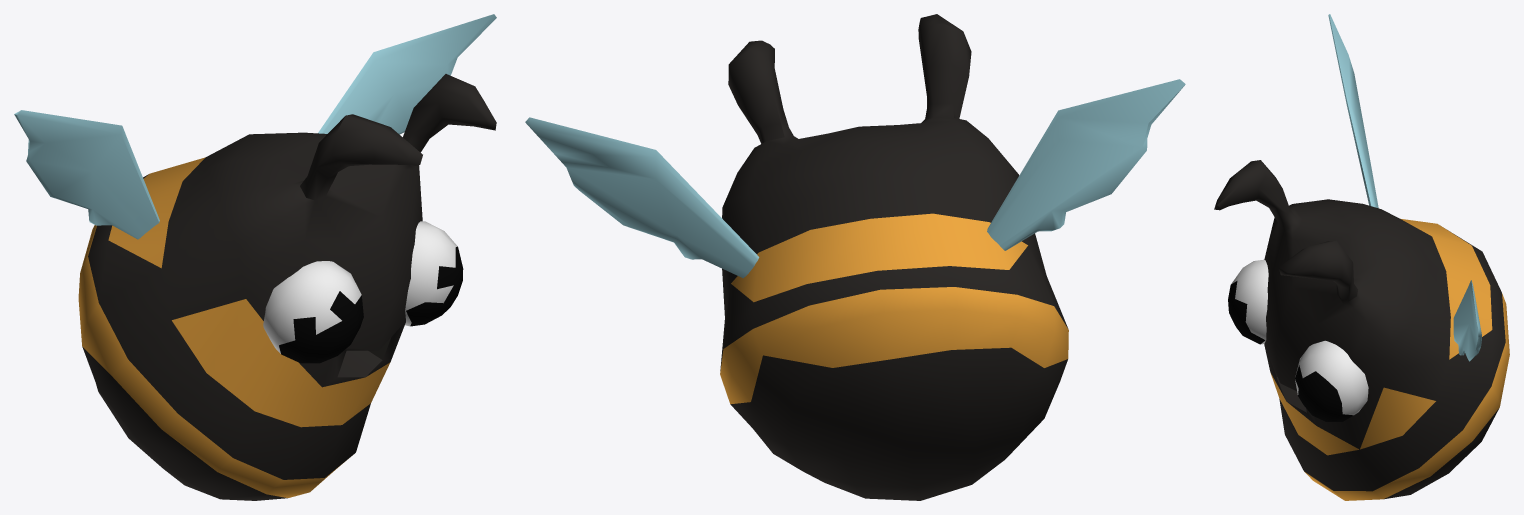
Rendered from bug-bee.glb.
3 renders of one model, left to right at view 1: azimuth 30°, elevation 25°; view 2: azimuth 150°, elevation 25°; view 3: azimuth 270°, elevation 25°, orthographic. The views are drawn at different scales.
Parts seen in each view (by area): view 1: Bee; view 2: Bee; view 3: Bee.
Boxes of the visible parts, left/top/right/bottom form: Bee: left=14, top=14, right=496, bottom=500; Bee: left=525, top=14, right=1185, bottom=500; Bee: left=1214, top=14, right=1509, bottom=500.
Size of the model in its own units: 0.2402 by 0.1845 by 0.1328.
Materials: 2 (2 with a texture image).
